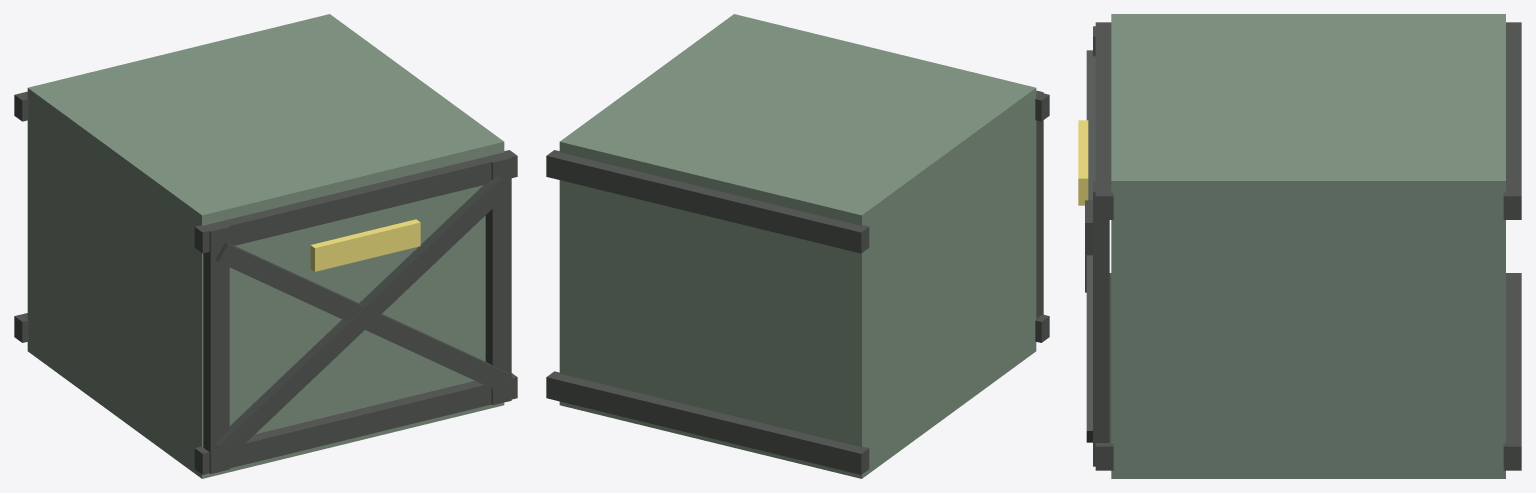
The model's file is map_cover_crate_01.glb.
3 renders of one model, left to right at view 1: azimuth 30°, elevation 25°; view 2: azimuth 150°, elevation 25°; view 3: azimuth 270°, elevation 25°, orthographic. The views are drawn at different scales.
Parts seen in each view (by area): view 1: geo_crate_core, geo_crate_front_diag_b, geo_crate_band_z_0.92, geo_crate_band_z_0.08, geo_crate_front_diag_a, geo_crate_front_upright_-0.56, geo_crate_front_upright_+0.56, geo_crate_cover_mark; view 2: geo_crate_core, geo_crate_band_back_z_0.08, geo_crate_band_back_z_0.92, geo_crate_front_upright_-0.56; view 3: geo_crate_core, geo_crate_front_upright_+0.56, geo_crate_band_z_0.92, geo_crate_band_back_z_0.08, geo_crate_band_back_z_0.92, geo_crate_front_diag_a, geo_crate_band_z_0.08, geo_crate_cover_mark, geo_crate_front_diag_b.
Boxes of the visible parts, x1=… form: geo_crate_core: x1=27, y1=14, x2=504, y2=478; geo_crate_front_diag_b: x1=215, y1=176, x2=510, y2=458; geo_crate_band_z_0.92: x1=194, y1=150, x2=517, y2=253; geo_crate_band_z_0.08: x1=194, y1=373, x2=517, y2=474; geo_crate_front_diag_a: x1=215, y1=242, x2=509, y2=391; geo_crate_front_upright_-0.56: x1=203, y1=222, x2=229, y2=473; geo_crate_front_upright_+0.56: x1=485, y1=157, x2=511, y2=405; geo_crate_cover_mark: x1=310, y1=219, x2=420, y2=271; geo_crate_core: x1=559, y1=14, x2=1036, y2=478; geo_crate_band_back_z_0.08: x1=546, y1=371, x2=869, y2=474; geo_crate_band_back_z_0.92: x1=546, y1=150, x2=869, y2=253; geo_crate_front_upright_-0.56: x1=1036, y1=90, x2=1043, y2=318; geo_crate_core: x1=1111, y1=14, x2=1505, y2=478; geo_crate_front_upright_+0.56: x1=1093, y1=182, x2=1109, y2=466; geo_crate_band_z_0.92: x1=1095, y1=22, x2=1113, y2=219; geo_crate_band_back_z_0.08: x1=1503, y1=273, x2=1521, y2=470; geo_crate_band_back_z_0.92: x1=1503, y1=22, x2=1521, y2=219; geo_crate_front_diag_a: x1=1086, y1=50, x2=1095, y2=442; geo_crate_band_z_0.08: x1=1095, y1=273, x2=1113, y2=470; geo_crate_cover_mark: x1=1078, y1=120, x2=1088, y2=205; geo_crate_front_diag_b: x1=1085, y1=200, x2=1092, y2=292.
Size of the model in its own units: 1.25 by 1 by 1.35.
